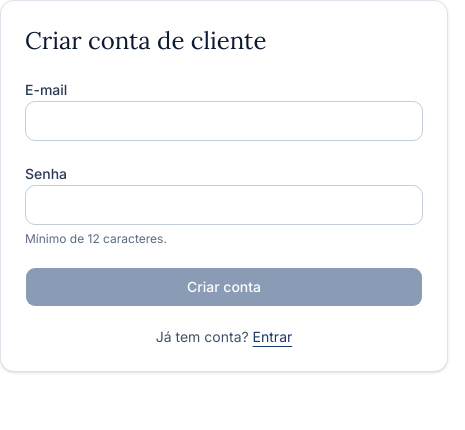
Test case: RegisterForm › shows duplicate e-mail errors
Type "dup@b.com" into the field labelled "E-mail" at (224, 121), box x1=25 y1=101 x2=423 y2=141
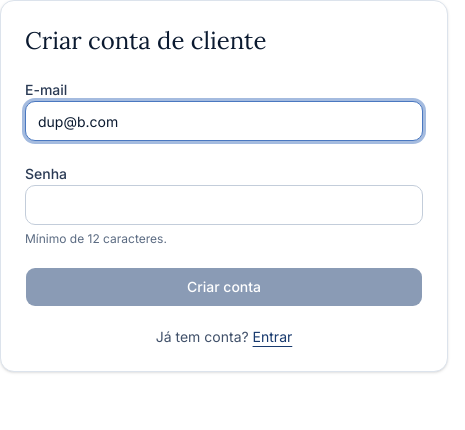
Type "senha-forte-123" into the password field labelled "Senha" at (224, 205), box x1=25 y1=185 x2=423 y2=225
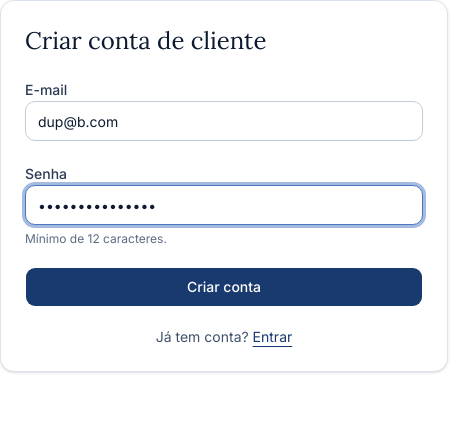
Click the button "Criar conta" at (224, 287), box x1=25 y1=267 x2=423 y2=307
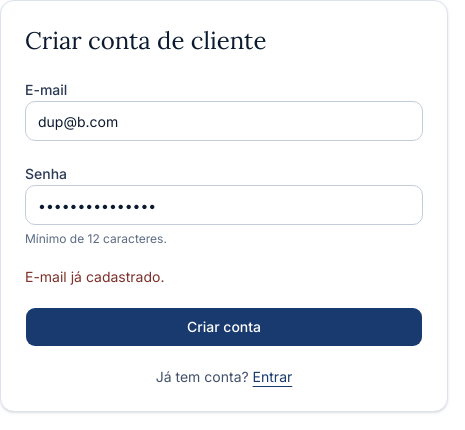
Expected: the message reads "E-mail já cadastrado.", x1=25 y1=268 x2=164 y2=285
